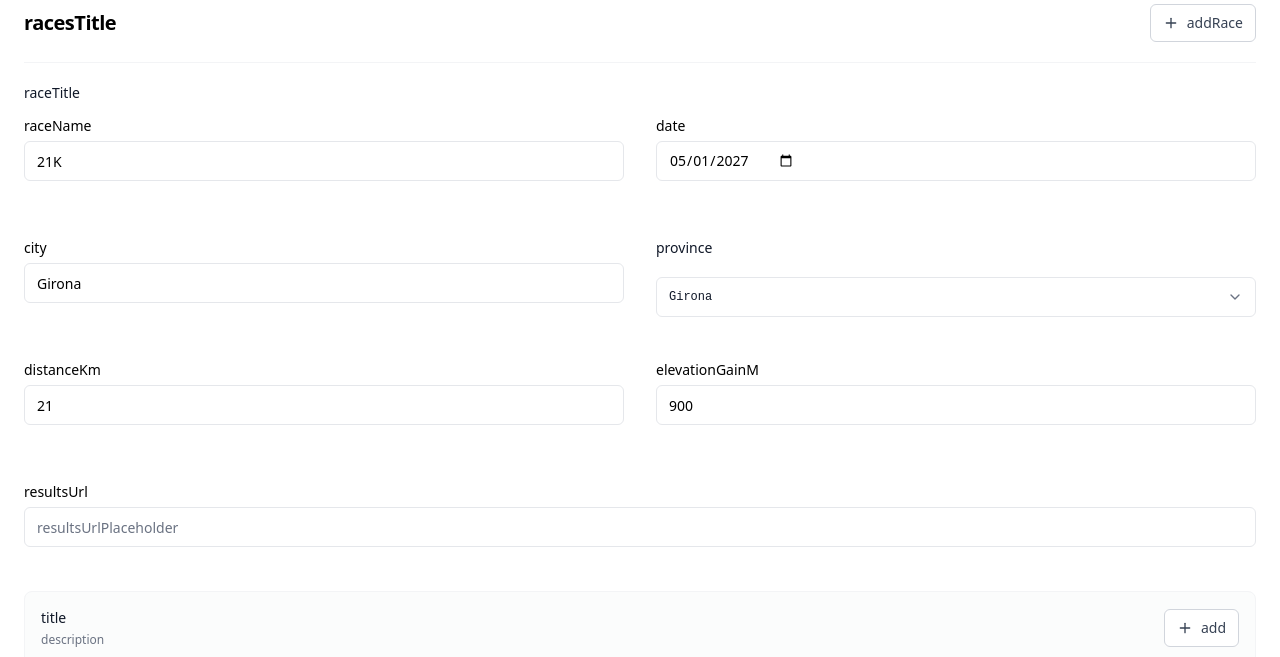
EventForm province selection › shows the custom validation error when province is empty
(page scrolled)
What coordinates should you click on to do the following:
click the dropdown named "province"
I would click on:
 (691, 297)
Its box is 656,277 -> 1256,317.
(page scrolled)
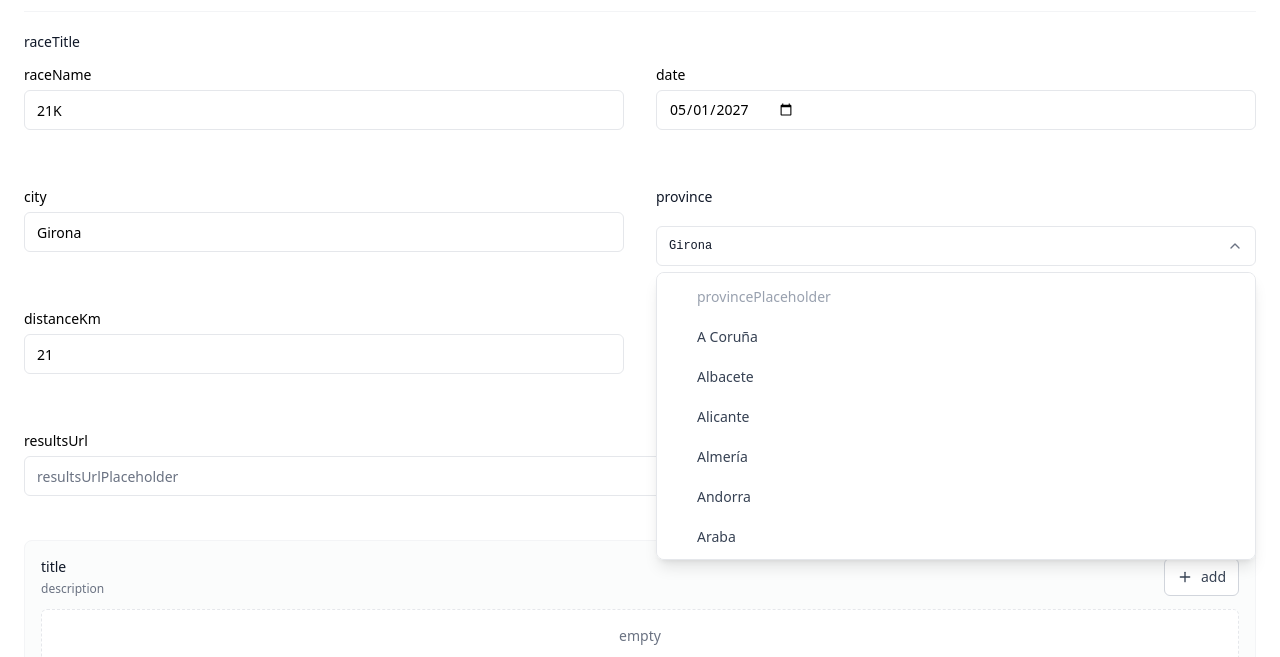
What coordinates should you click on to do the following:
click the option "provincePlaceholder"
I would click on:
 (764, 296)
Its box is 661,277 -> 1251,317.
(page scrolled)
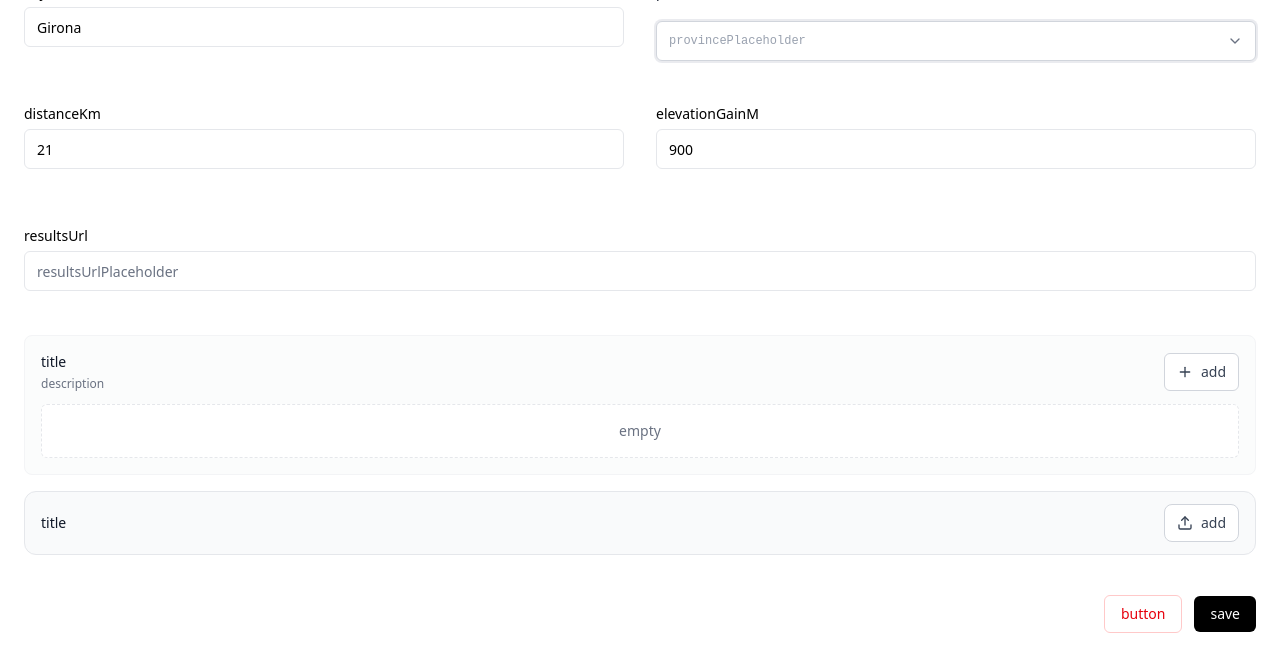
What coordinates should you click on to do the following:
click the button "save"
I would click on:
 (1225, 614)
Its box is 1194,596 -> 1256,632.
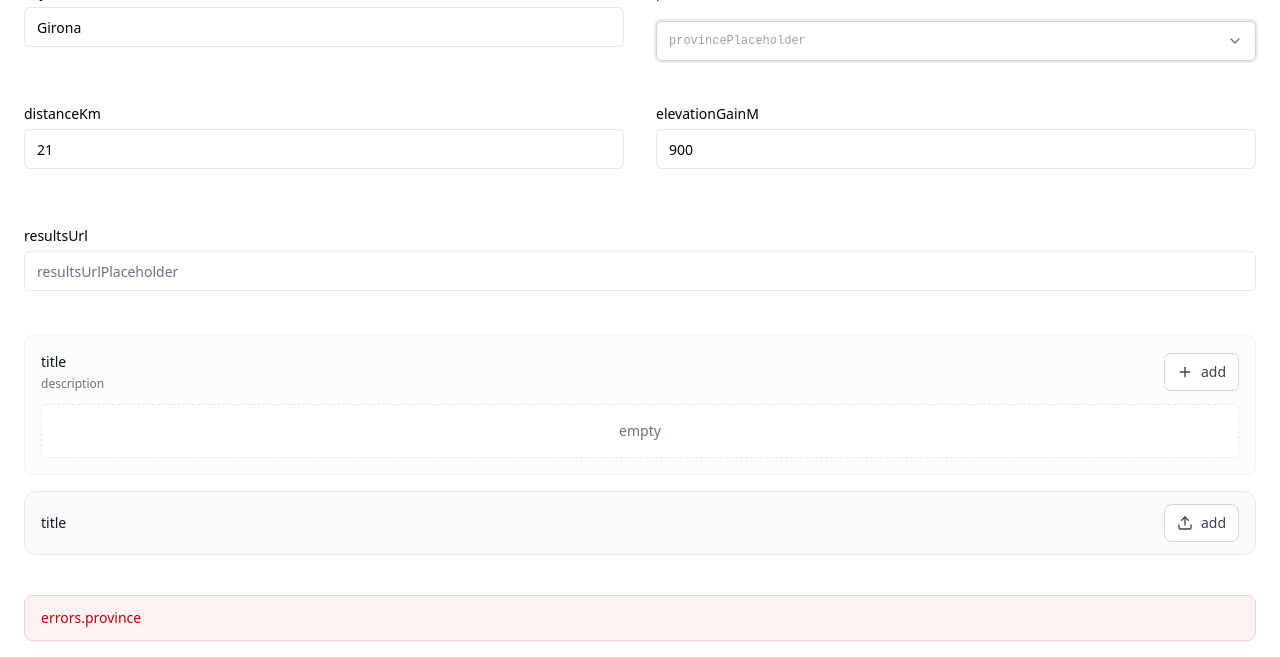
Result: the text "errors.province" is shown at 24,595 -> 1256,641
